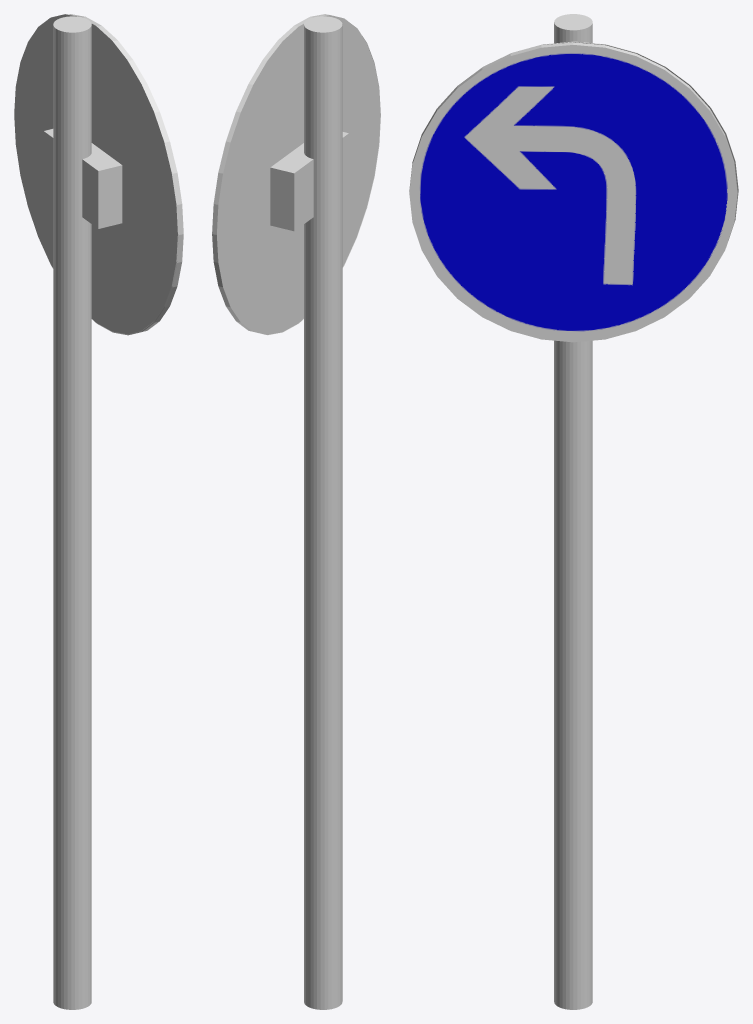
Rendered from Kiri.fbx.
3 renders of one model, left to right at view 1: azimuth 30°, elevation 25°; view 2: azimuth 150°, elevation 25°; view 3: azimuth 270°, elevation 25°, orthographic.
Visible parts, largest first — view 1: Cylinder, Cylinder.001, Cube; view 2: Cylinder, Cylinder.001, Cube; view 3: Cylinder.001, Cylinder.
Part boxes in pixels (box(x1,y1,x2,y2)): Cylinder: box(53, 16, 91, 1009); Cylinder.001: box(14, 14, 183, 335); Cube: box(43, 129, 122, 228); Cylinder: box(304, 16, 342, 1009); Cylinder.001: box(212, 14, 380, 335); Cube: box(270, 132, 348, 231); Cylinder.001: box(409, 41, 738, 342); Cylinder: box(554, 14, 592, 1009).
Bounding box in the file's own units: 35.85 × 727 × 222.
